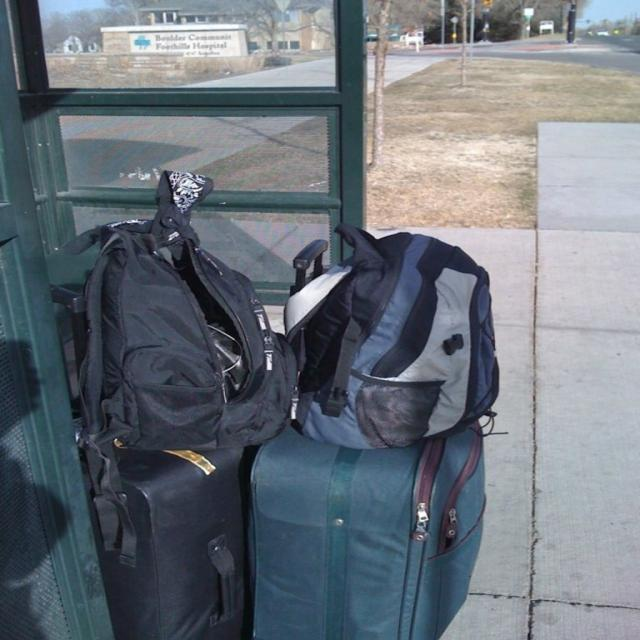backpack: (243, 418, 502, 640), (69, 213, 287, 445), (288, 233, 490, 439), (83, 420, 247, 640)
